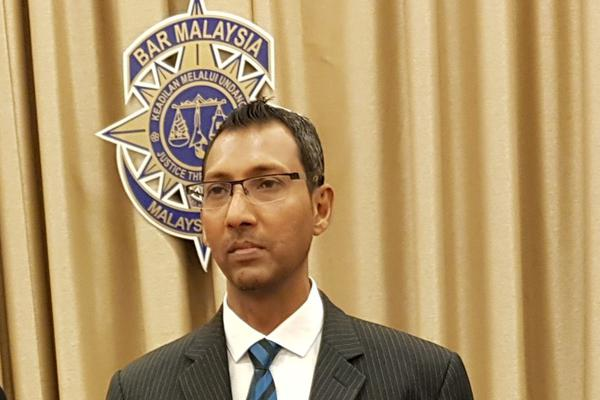Malay: (199, 131, 306, 289)
